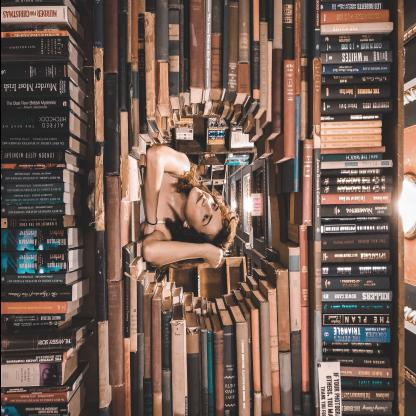Eye: (201, 214, 208, 222), (210, 202, 216, 208)
Mouth: (195, 192, 203, 204)
Nose: (201, 198, 210, 210)
